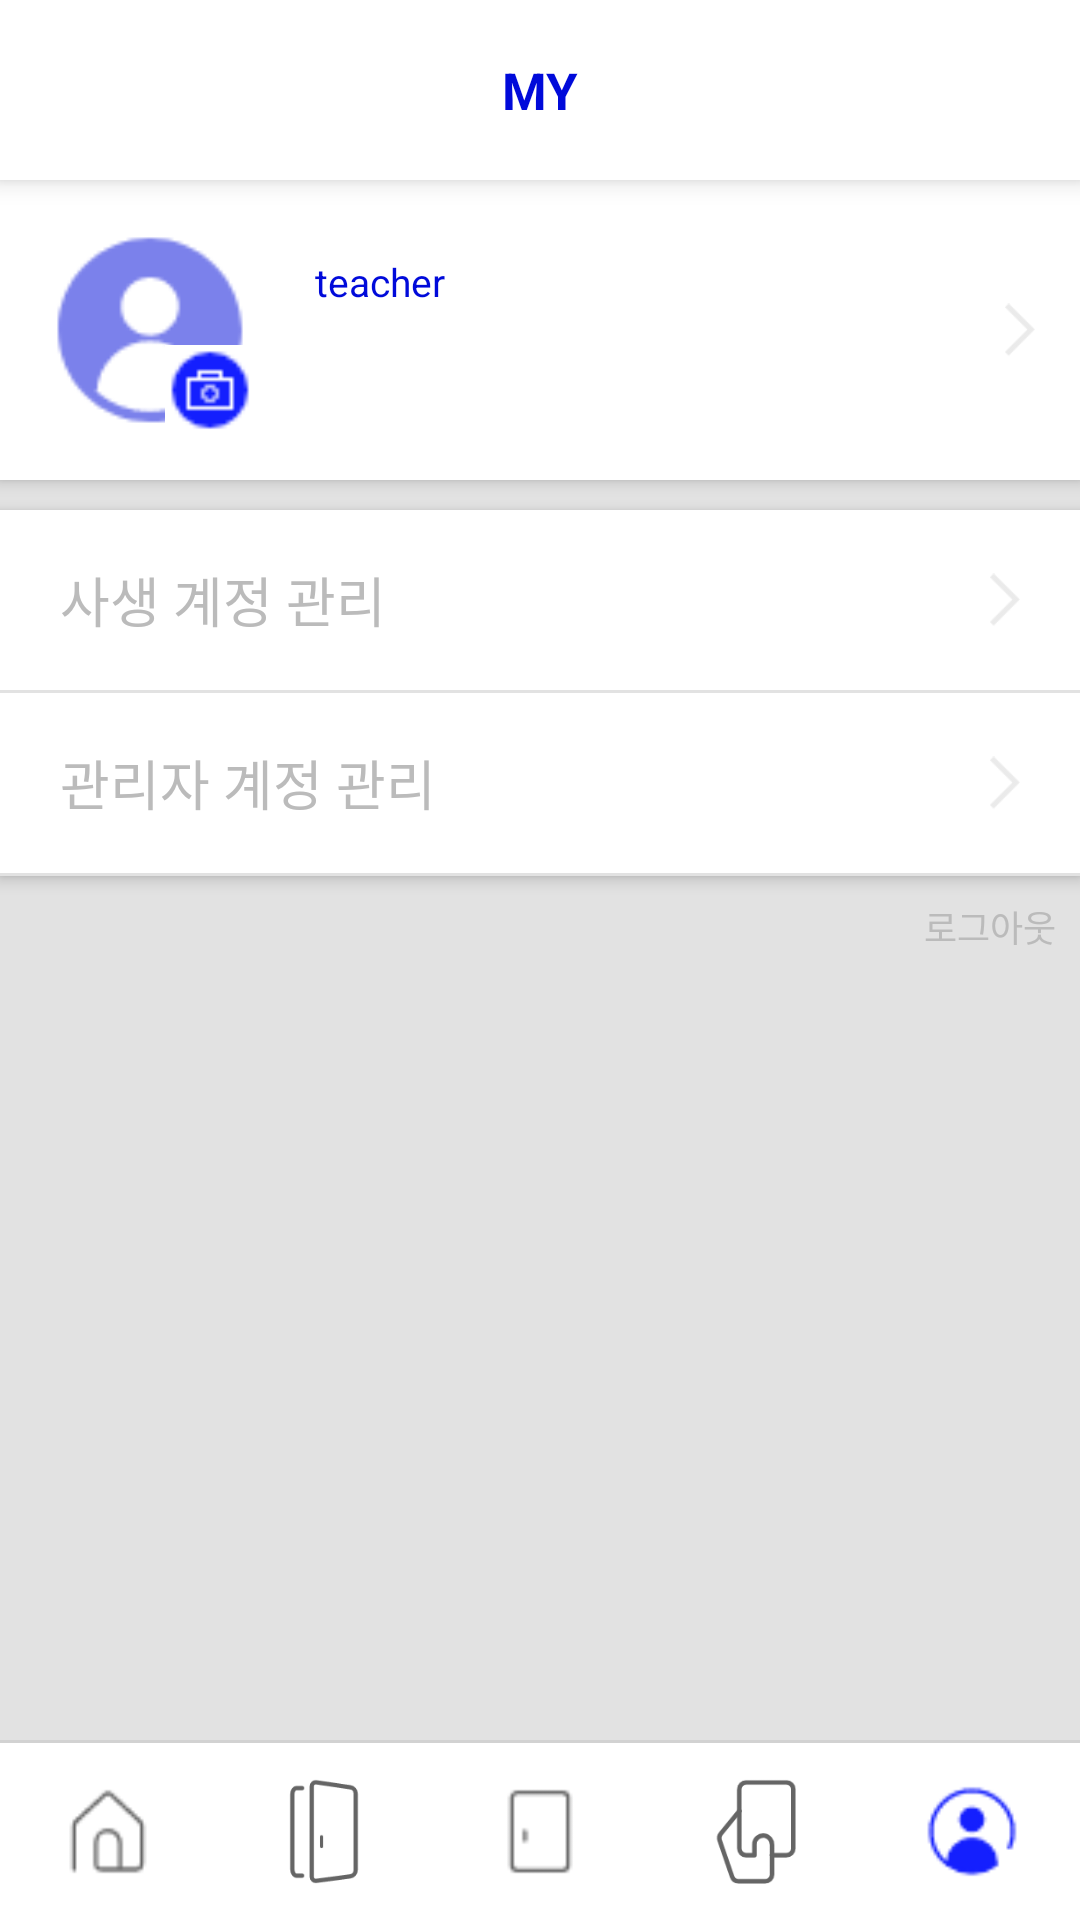

Named icons in this screenshot (1080px×1920px) and their bounding boxes, (x1=x1, y1=y1, x2=x2, y2=y2):
bottombar my: (x1=927, y1=1787, x2=1017, y2=1876)
bottombar point: (x1=716, y1=1780, x2=796, y2=1884)
